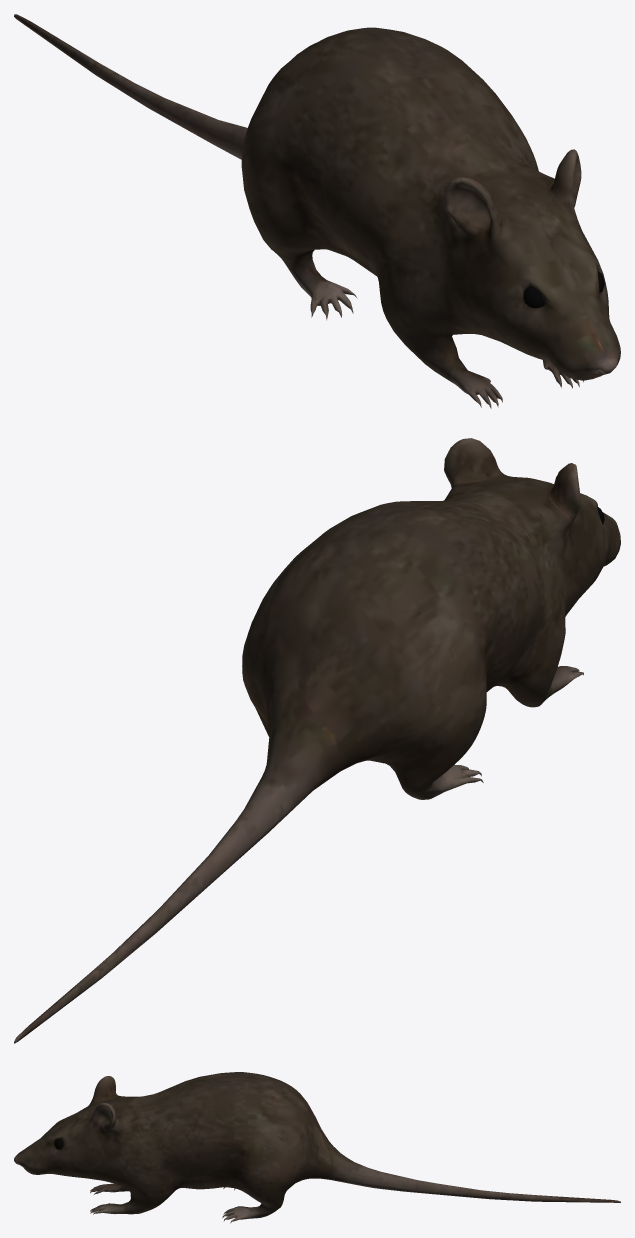
File: street_rat.glb
The picture shows the model from 3 angles, top to bottom: view 1: azimuth 30°, elevation 25°; view 2: azimuth 150°, elevation 25°; view 3: azimuth 270°, elevation 25°; orthographic projection. The views are drawn at different scales.
Parts seen in each view (by area): view 1: street_rat_mesh; view 2: street_rat_mesh; view 3: street_rat_mesh.
Part boxes in pixels (left/top/right/bottom): street_rat_mesh: left=14, top=14, right=620, bottom=408; street_rat_mesh: left=14, top=438, right=620, bottom=1043; street_rat_mesh: left=14, top=1072, right=620, bottom=1223.
Size of the model in its own units: 0.0319 by 0.0338 by 0.1483.
Materials: 1 (1 with a texture image).
